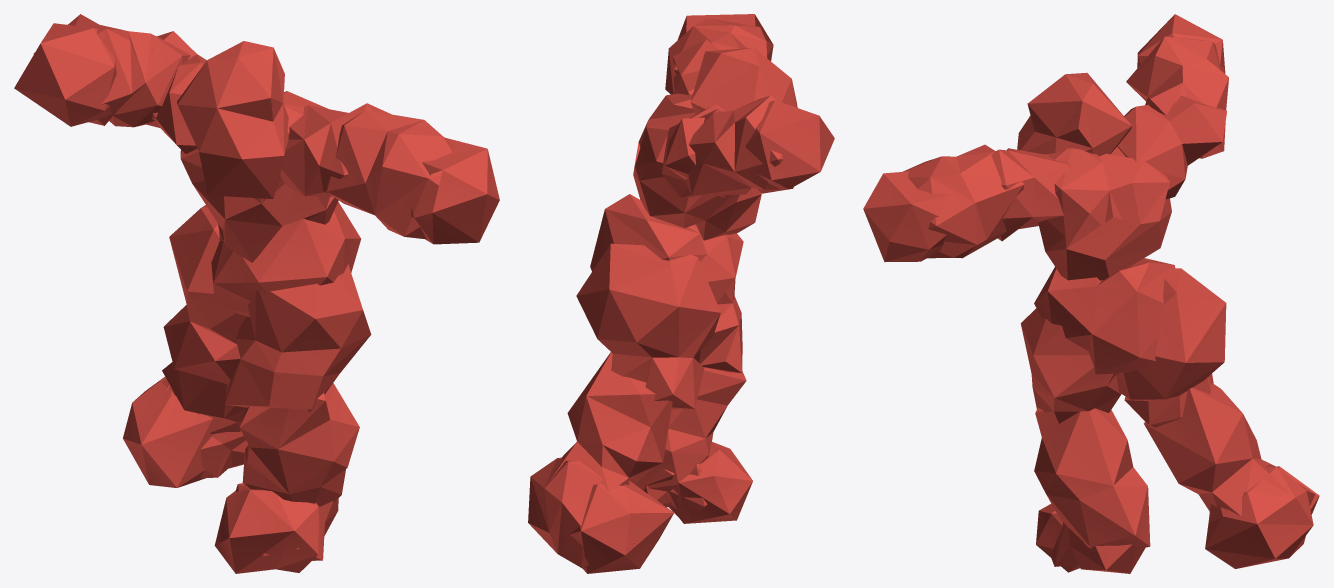
Rendered from dance_frames0361.obj.
3 views of the same model, side by side, from view 1: azimuth 30°, elevation 25°; view 2: azimuth 150°, elevation 25°; view 3: azimuth 270°, elevation 25° (orthographic). The views are drawn at different scales.
Visible parts, largest first — view 1: Beta_Surface; view 2: Beta_Surface; view 3: Beta_Surface.
Boxes of the visible parts, box(x1,y1,x2,y2) form: Beta_Surface: box(14, 14, 499, 573); Beta_Surface: box(528, 14, 834, 573); Beta_Surface: box(863, 14, 1319, 573).
Bounding box in the file's own units: 1.19 × 1.95 × 1.69.
